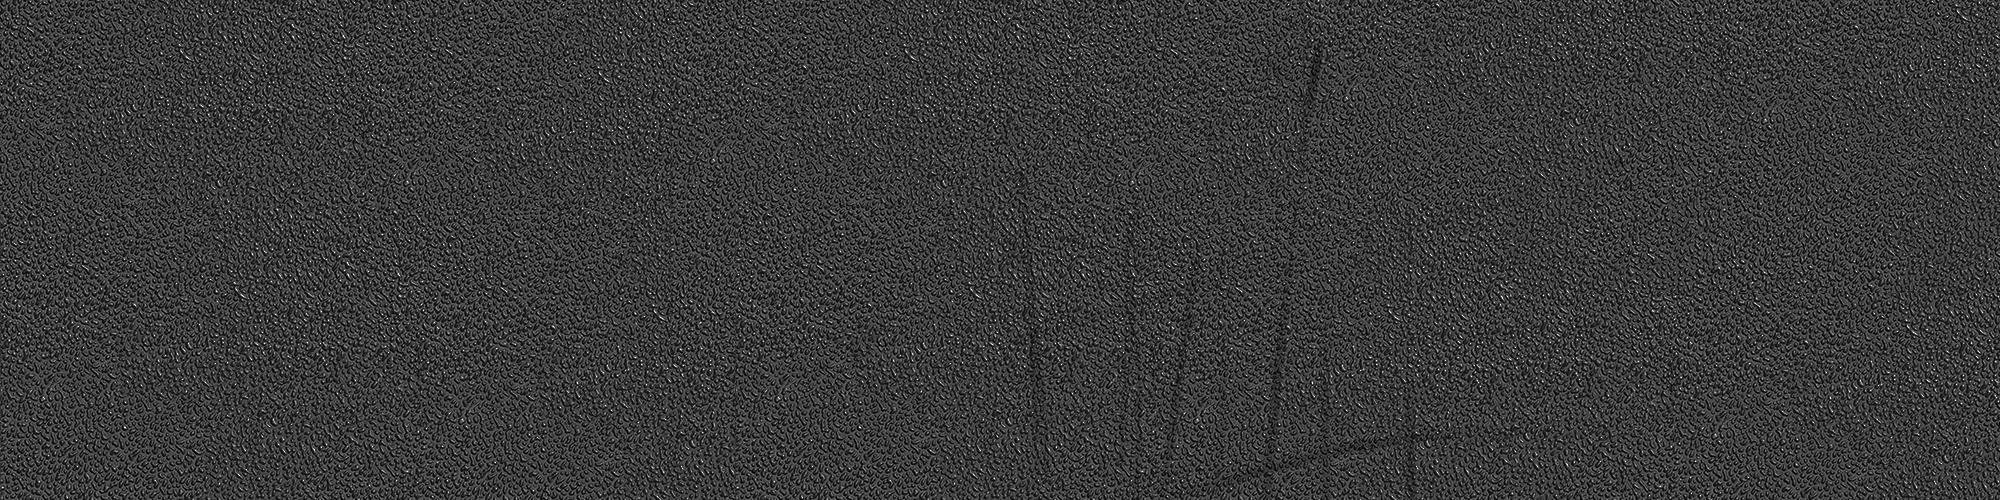Scratches: (1082, 224, 1454, 500), (999, 253, 1291, 344), (1011, 171, 1057, 460), (710, 202, 750, 458), (1273, 40, 1325, 221), (663, 138, 673, 375)
